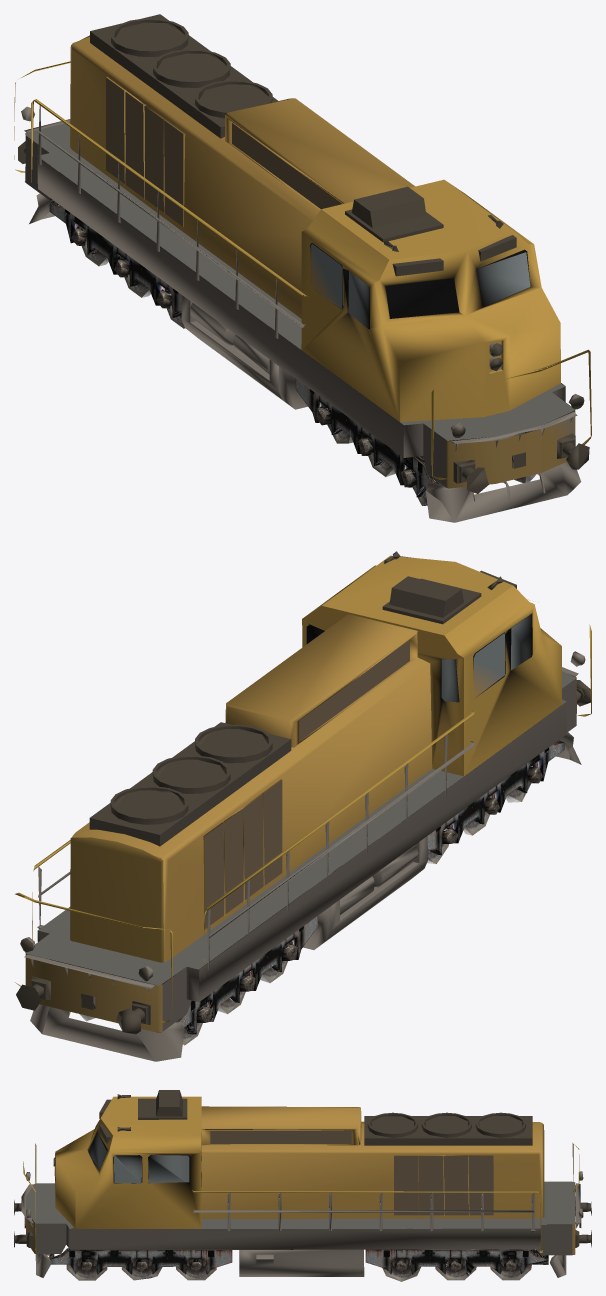
File: diesel-loco.lod0.glb
3 renders of one model, top to bottom at view 1: azimuth 30°, elevation 25°; view 2: azimuth 150°, elevation 25°; view 3: azimuth 270°, elevation 25°, orthographic. The views are drawn at different scales.
Parts seen in each view (by area): view 1: Object_2, Object_4; view 2: Object_2, Object_4; view 3: Object_2, Object_4.
Boxes of the visible parts, x1,y1,x2,y2 form: Object_2: (14,14,591,522); Object_4: (49,201,536,505); Object_2: (15,551,591,1061); Object_4: (79,740,564,1045); Object_2: (14,1090,591,1277); Object_4: (49,1248,548,1281).
Bounding box in the file's own units: 3.57 × 4.94 × 15.96.
2 materials, 1 textured.
